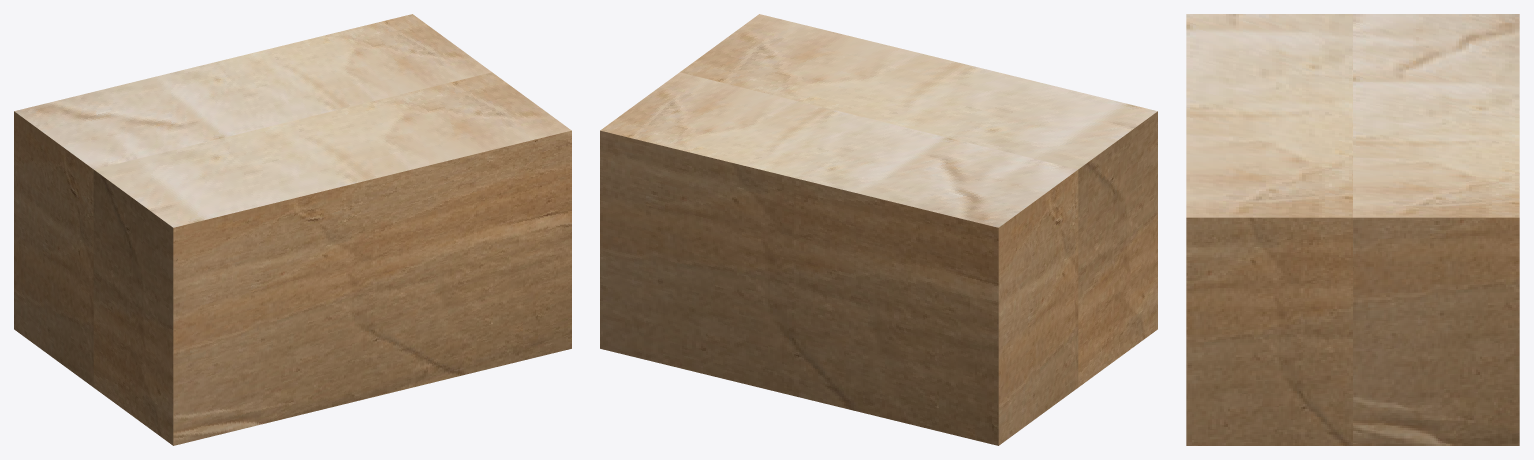
Rendered from cardboard_box.glb.
3 views of the same model, side by side, from view 1: azimuth 30°, elevation 25°; view 2: azimuth 150°, elevation 25°; view 3: azimuth 270°, elevation 25° (orthographic). The views are drawn at different scales.
Visible parts, largest first — view 1: Cube; view 2: Cube; view 3: Cube.
Boxes of the visible parts, x1,y1,x2,y2 form: Cube: (14,14,571,445); Cube: (600,14,1157,445); Cube: (1186,14,1519,445).
Size of the model in its own units: 1.3 by 0.68 by 0.9.
Materials: 1 (1 with a texture image).
